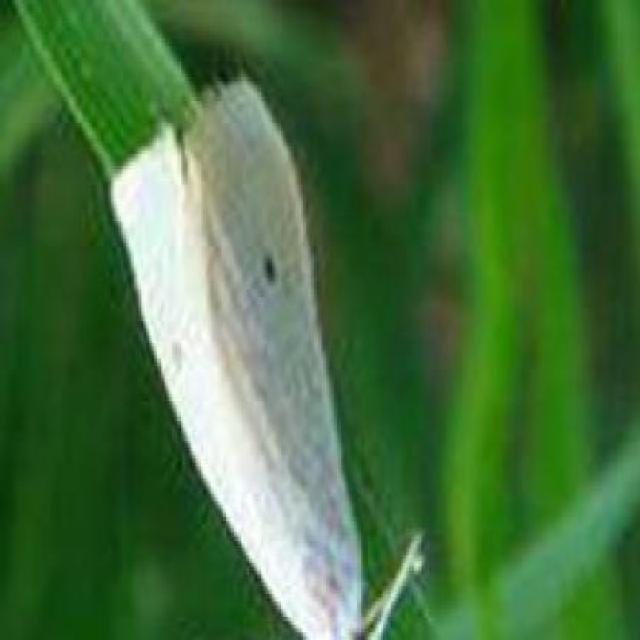stem-borer: (93, 56, 432, 640)
